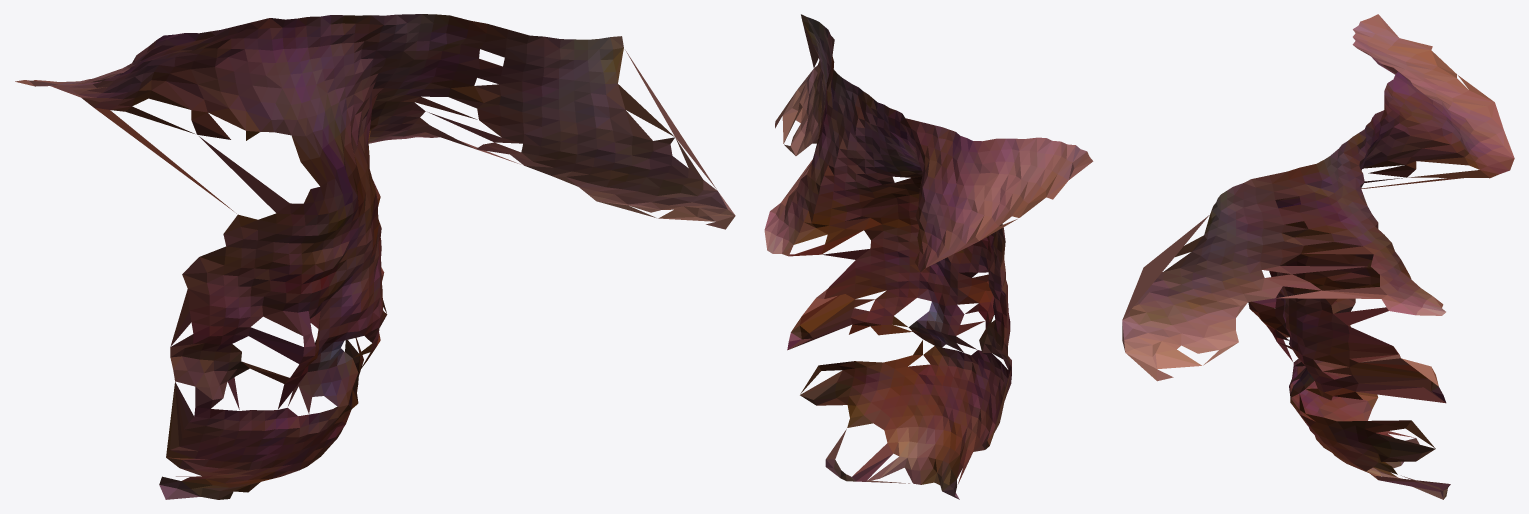
The picture shows the model from 3 angles, left to right: view 1: azimuth 30°, elevation 25°; view 2: azimuth 150°, elevation 25°; view 3: azimuth 270°, elevation 25°; orthographic projection. The views are drawn at different scales.
Visible parts, largest first — view 1: ofMesh; view 2: ofMesh; view 3: ofMesh.
Part boxes in pixels (left/top/right/bottom): ofMesh: left=15, top=14, right=735, bottom=499; ofMesh: left=764, top=14, right=1093, bottom=499; ofMesh: left=1122, top=14, right=1514, bottom=499.
Size of the model in its own units: 342 by 276 by 259.
Materials: 1 (1 with a texture image).
